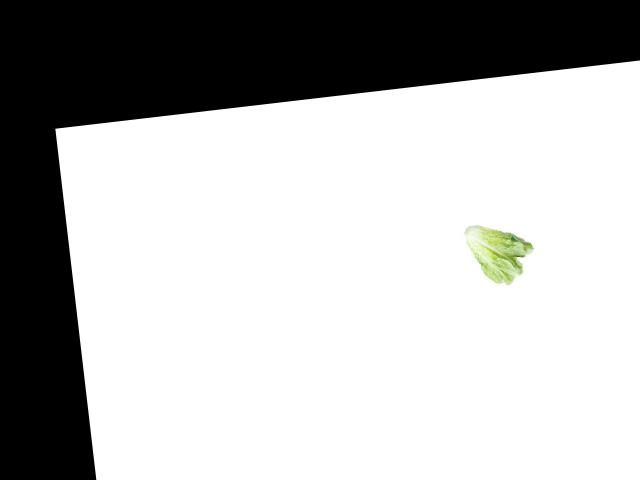lettuce: (461, 217, 538, 298)
